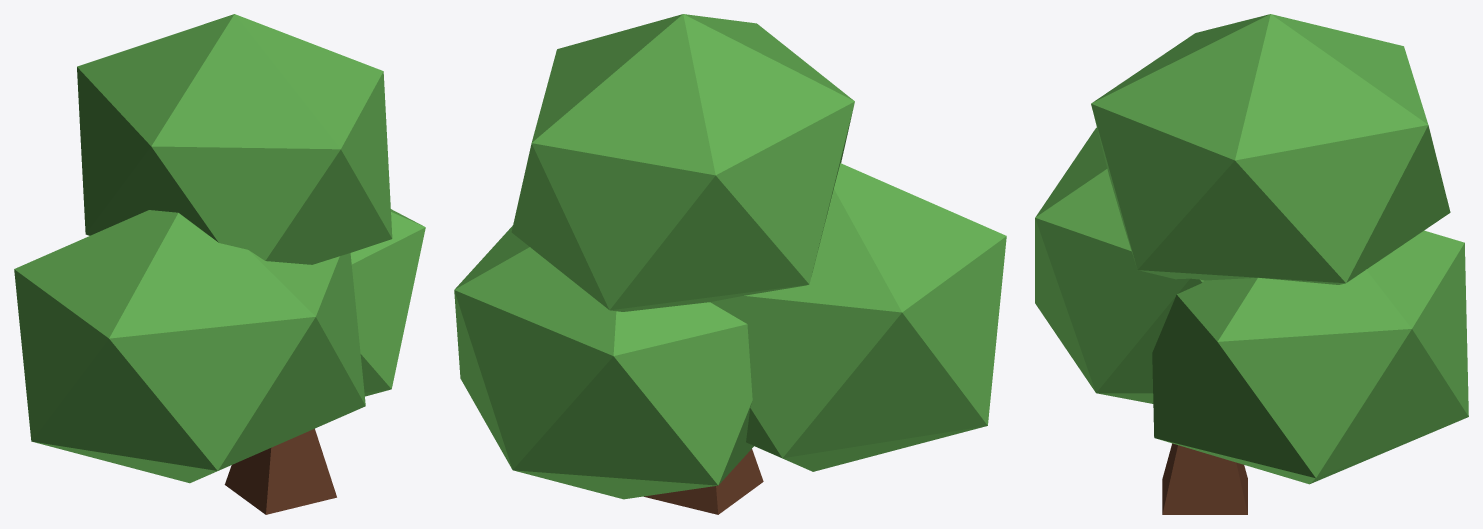
File: tree004.fbx
3 views of the same model, side by side, from view 1: azimuth 30°, elevation 25°; view 2: azimuth 150°, elevation 25°; view 3: azimuth 270°, elevation 25° (orthographic). The views are drawn at different scales.
Parts seen in each view (by area): view 1: Icosphere.011; view 2: Icosphere.011; view 3: Icosphere.011.
Part boxes in pixels (x1,y1,x2,y2): Icosphere.011: (14, 14, 425, 514); Icosphere.011: (454, 14, 1006, 514); Icosphere.011: (1035, 14, 1468, 514).
Bounding box in the file's own units: 268 × 279 × 231.
